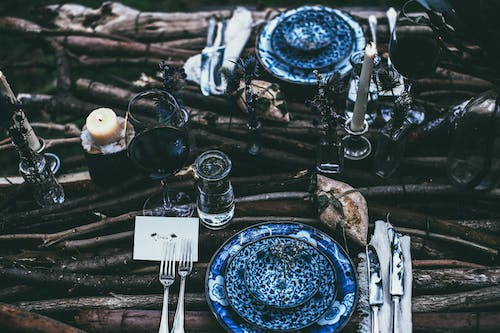knife: (386, 227, 406, 333), (365, 243, 384, 333), (199, 16, 217, 97)
